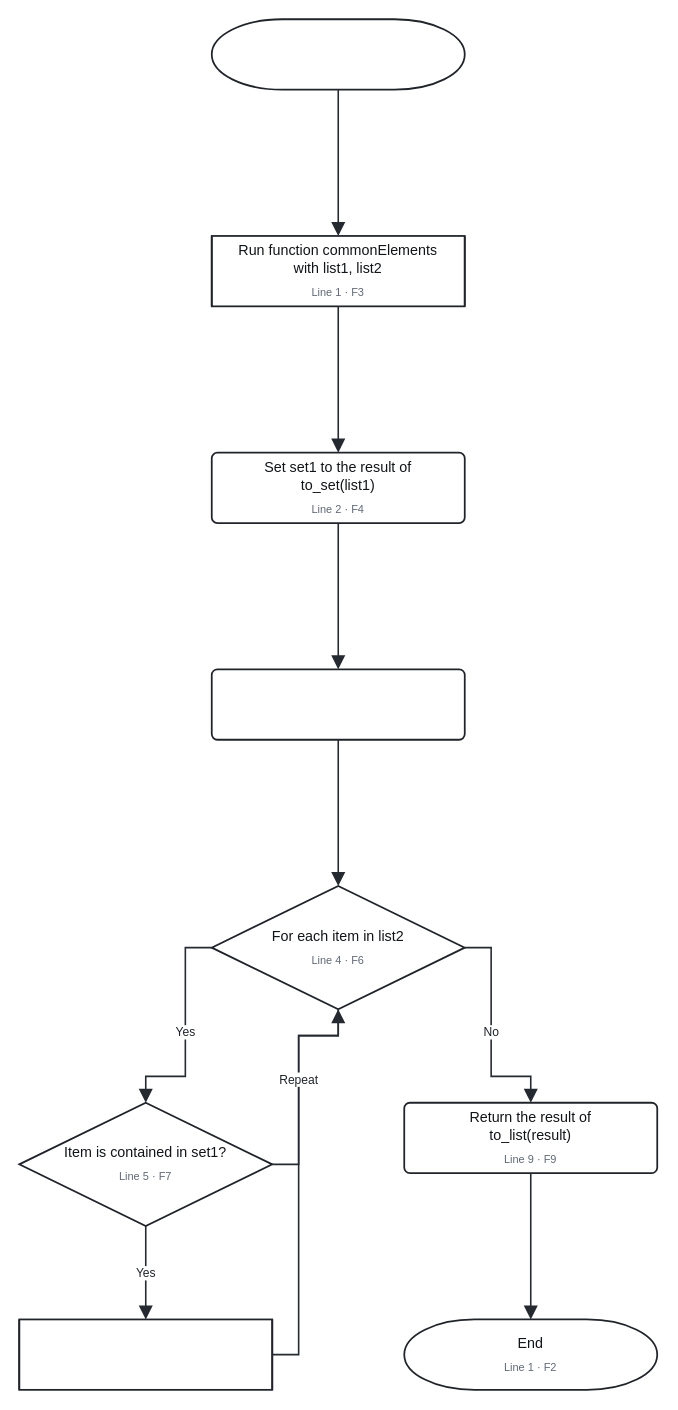
Image size: 678x1410. Some labels were removed from this diagram. The centre of each missing label's shape, as x and y in pixels:
"Call add_to_set with result, item Line 6 · F8" goes at (145,1354).
"Set result to an empty set Line 3 · F5" goes at (337,704).
"Start Line 1 · F1" goes at (337,54).
